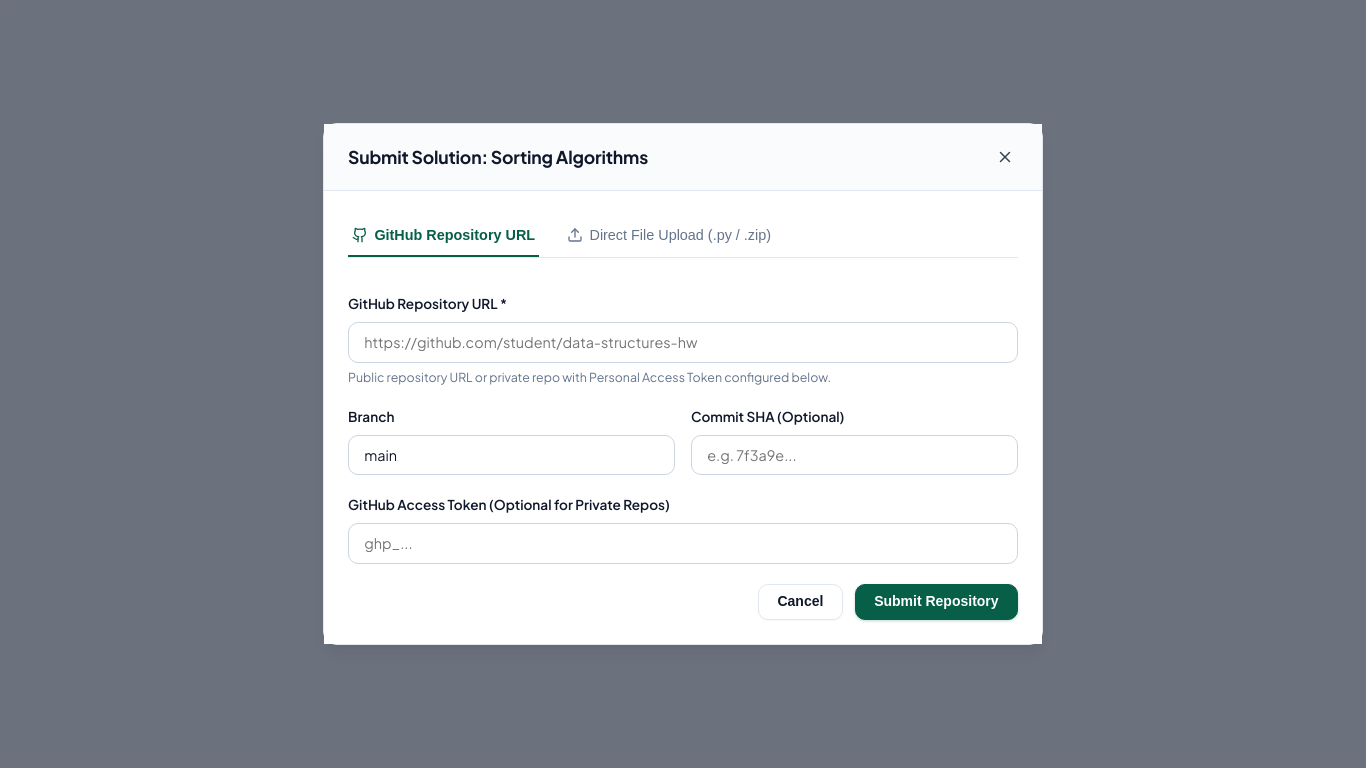
Student Dashboard Components › renders SubmitAssignmentModal with GitHub and File Upload tabs
Check: the heading "Submit Solution: Sorting Algorithms" is shown, box [348,144,648,170]
Check: the button "GitHub Repository URL" is shown, box [348,215,539,257]
Switch to File Upload tab
Click the button "Direct File Upload (.py / .zip)".
click(669, 236)  # box [563,215,775,257]
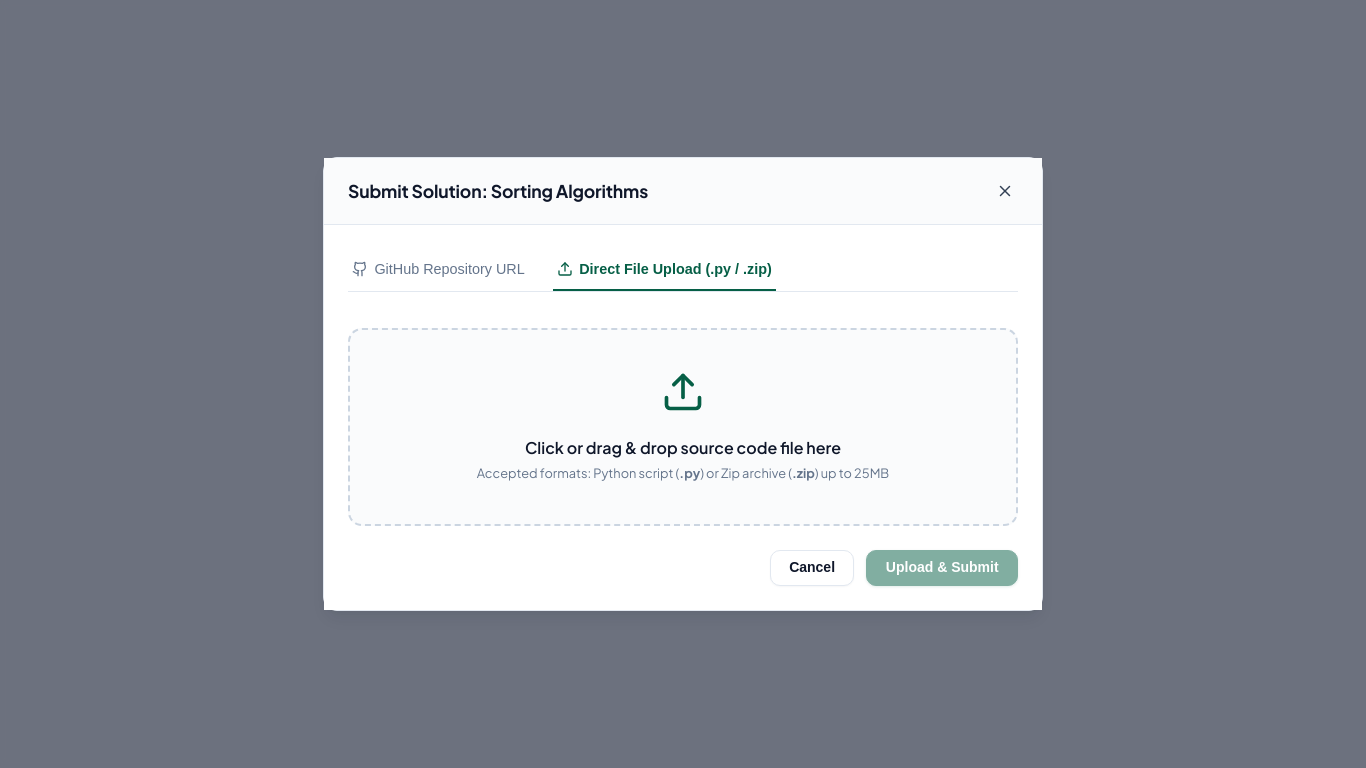
Check: the text "Click or drag & drop source code file here" is shown, box [525,437,841,458]
